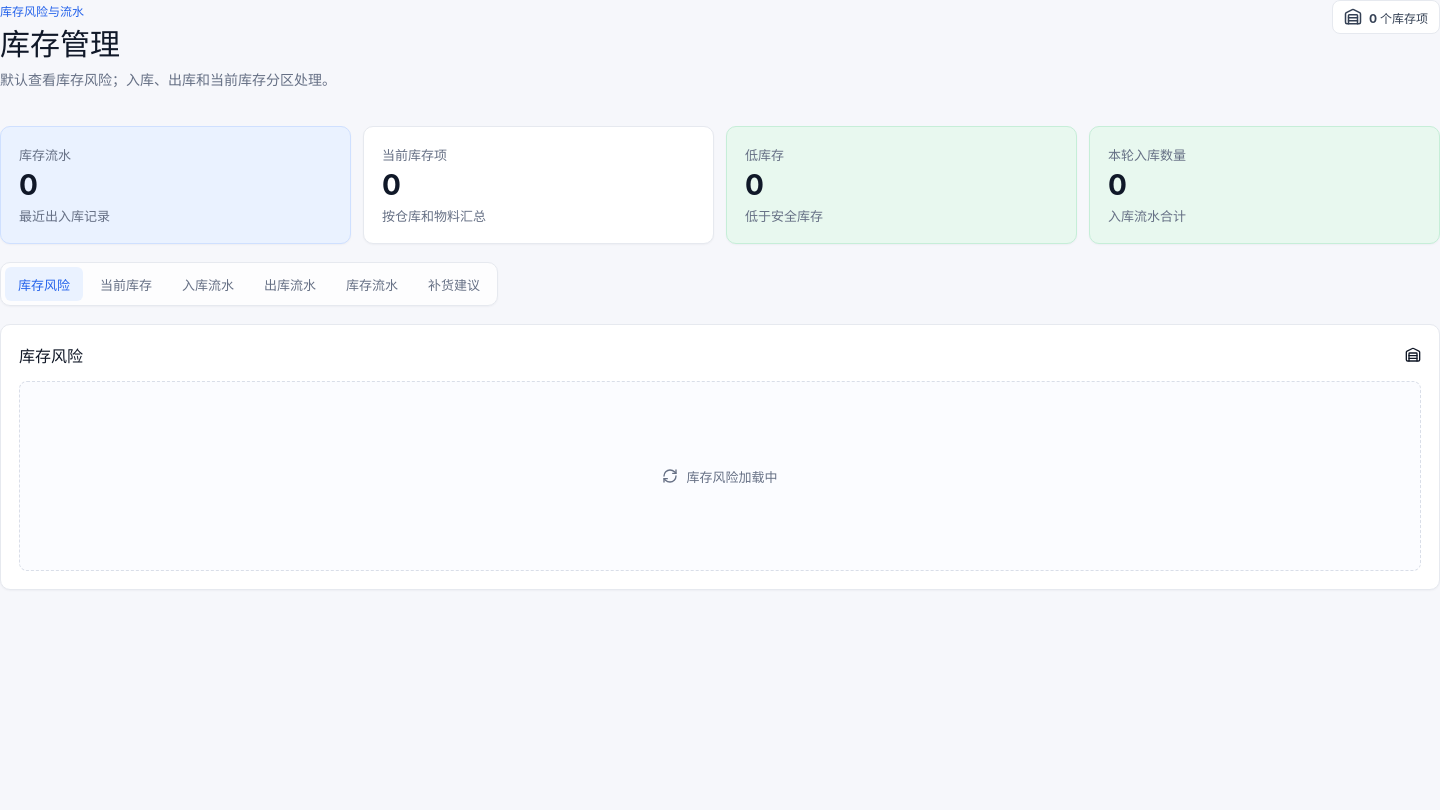
Scenario: 采购/库存 行内校验 › 库存登记必填为空时显示行内错误且不调接口
The image size is (1440, 810).
Click the tab "入库流水". click: (208,284)
box: [169,268,247,302]
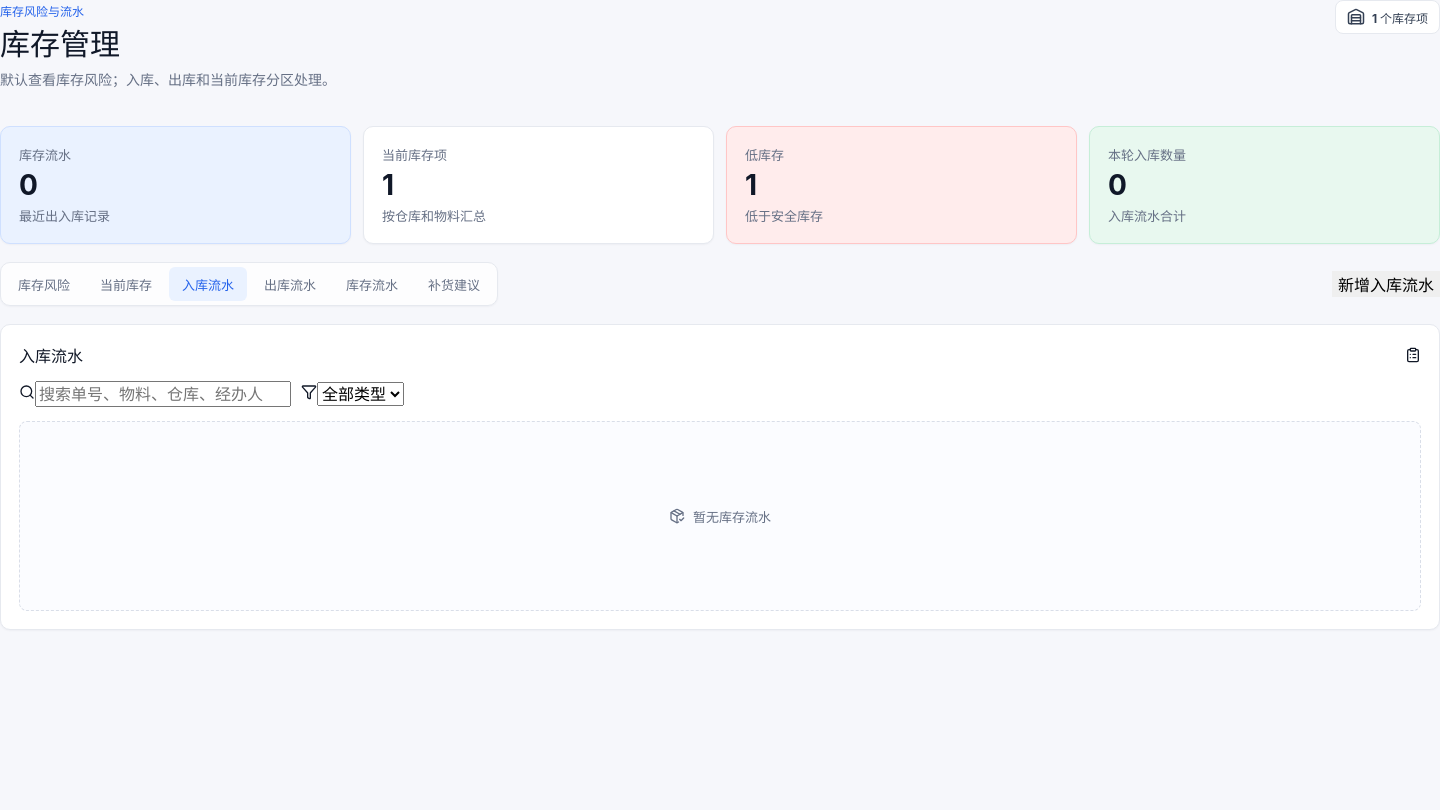
Click the button "新增入库流水". click: (1386,284)
box: [1332,272,1439,298]
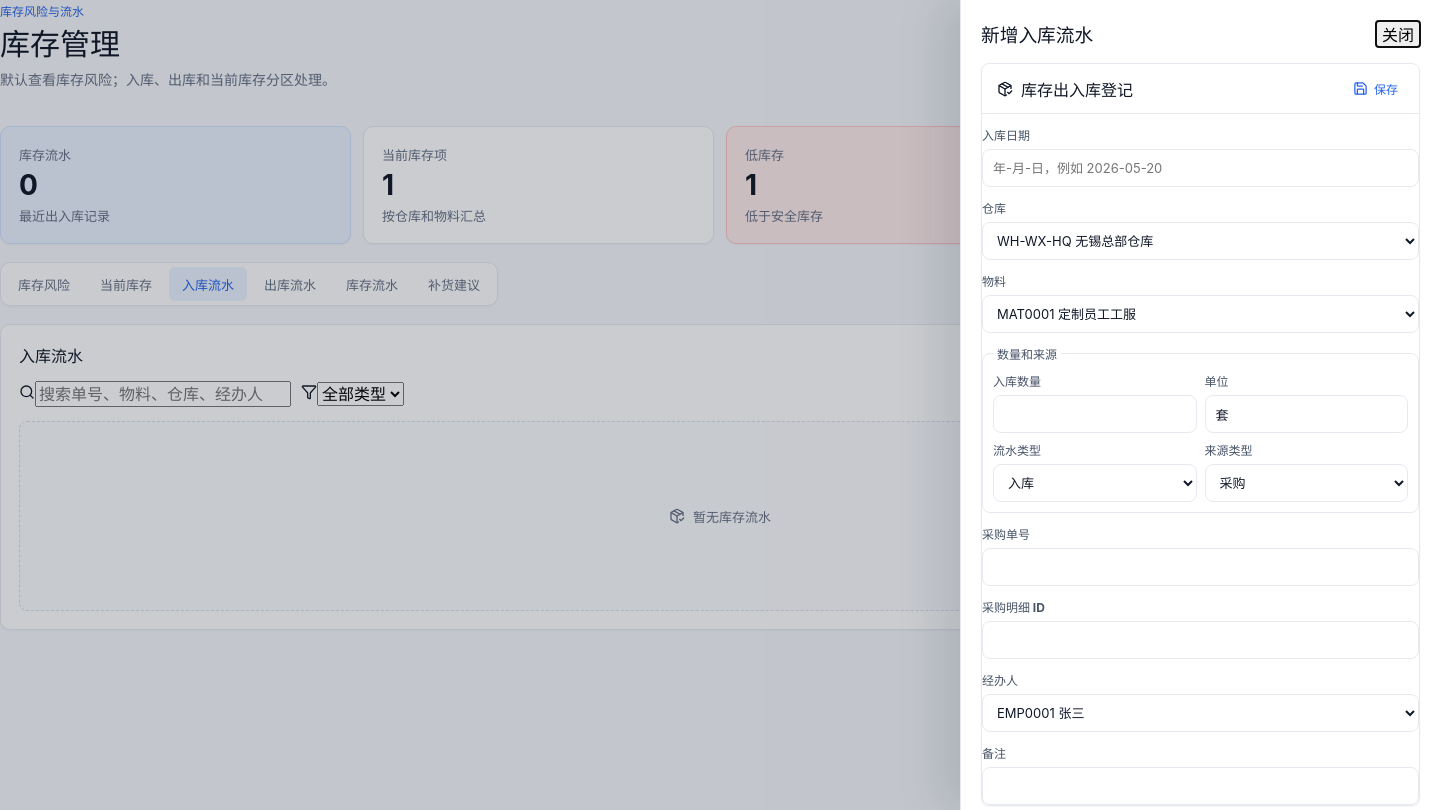
仓库/物料加载后默认选中首个，空提交时只有日期与数量为空。
Click the button "保存". click: (1376,88)
box: [1347,79,1404,98]
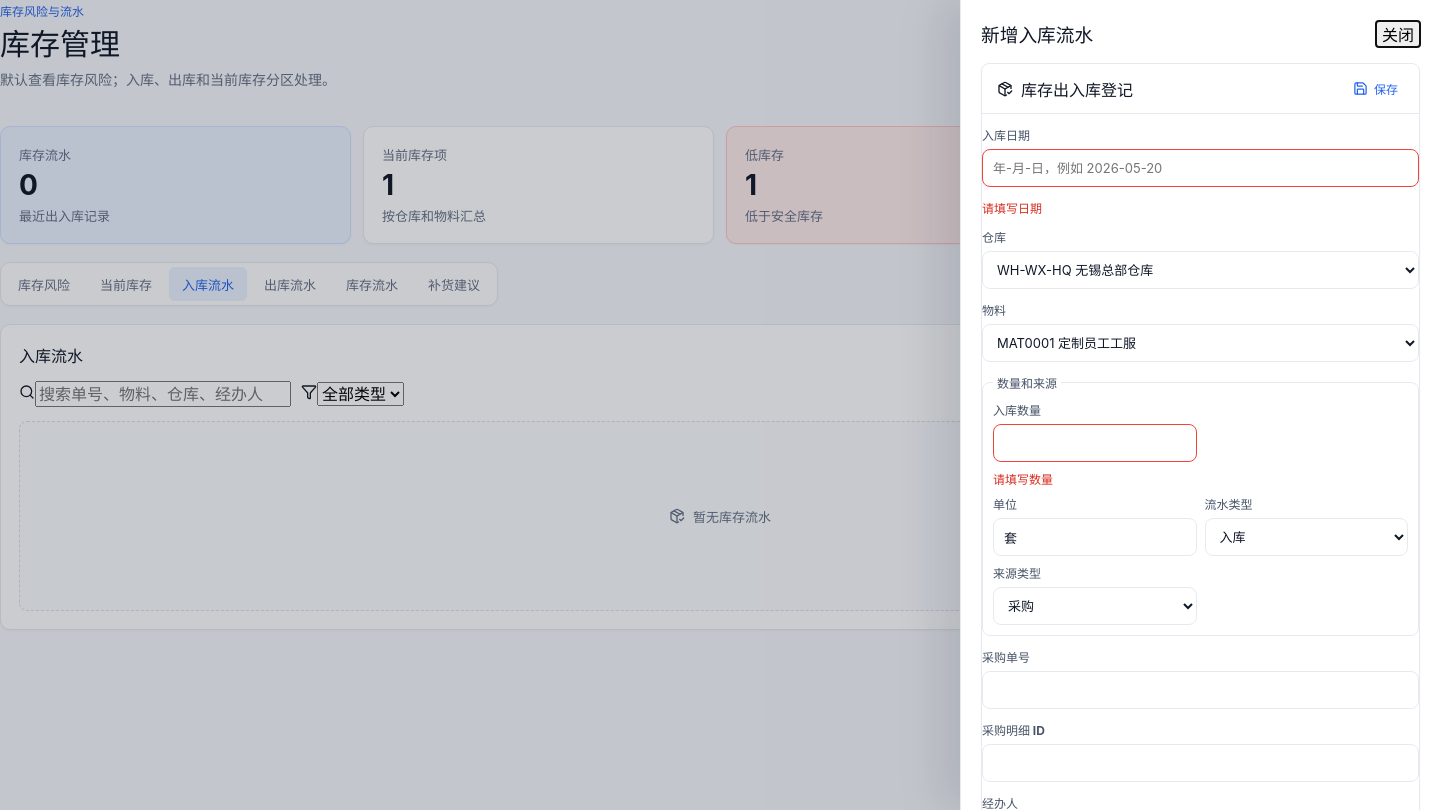
Check: the text "请填写日期" is shown, box [982,201,1042,216]
Check: the text "请填写数量" is shown, box [993,472,1053,487]
